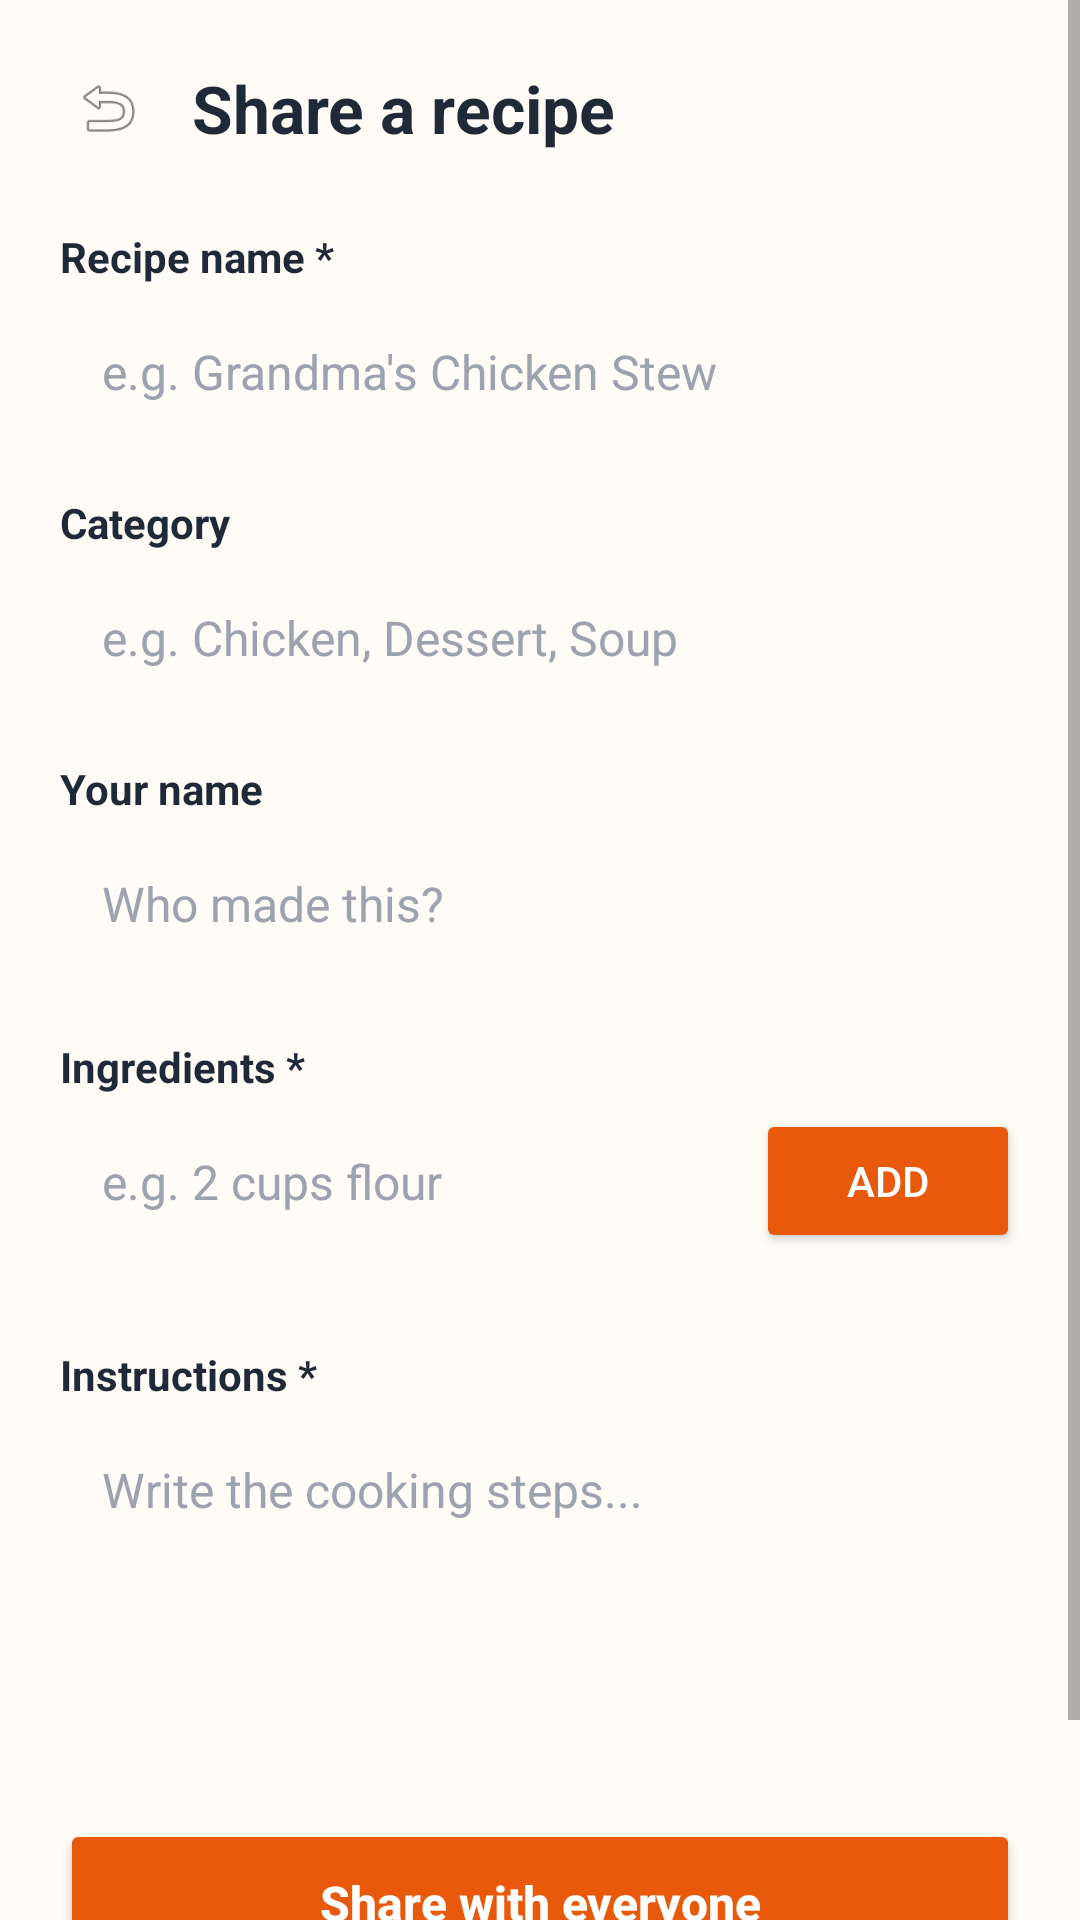

Screen size 1080*1920. Icon name, then its box in pixels as (x1, y1, x2, y2):
Back: (83, 85, 135, 132)
